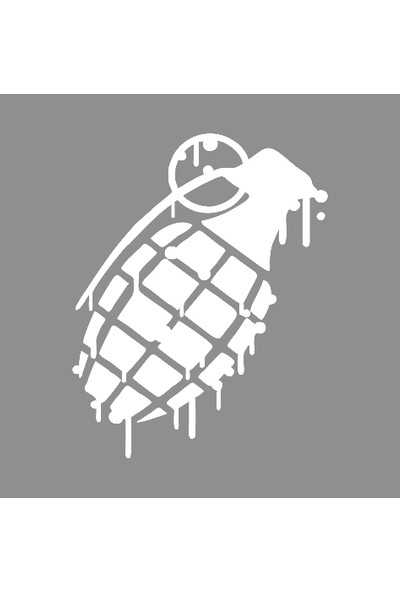e1: (66, 132, 327, 439)
